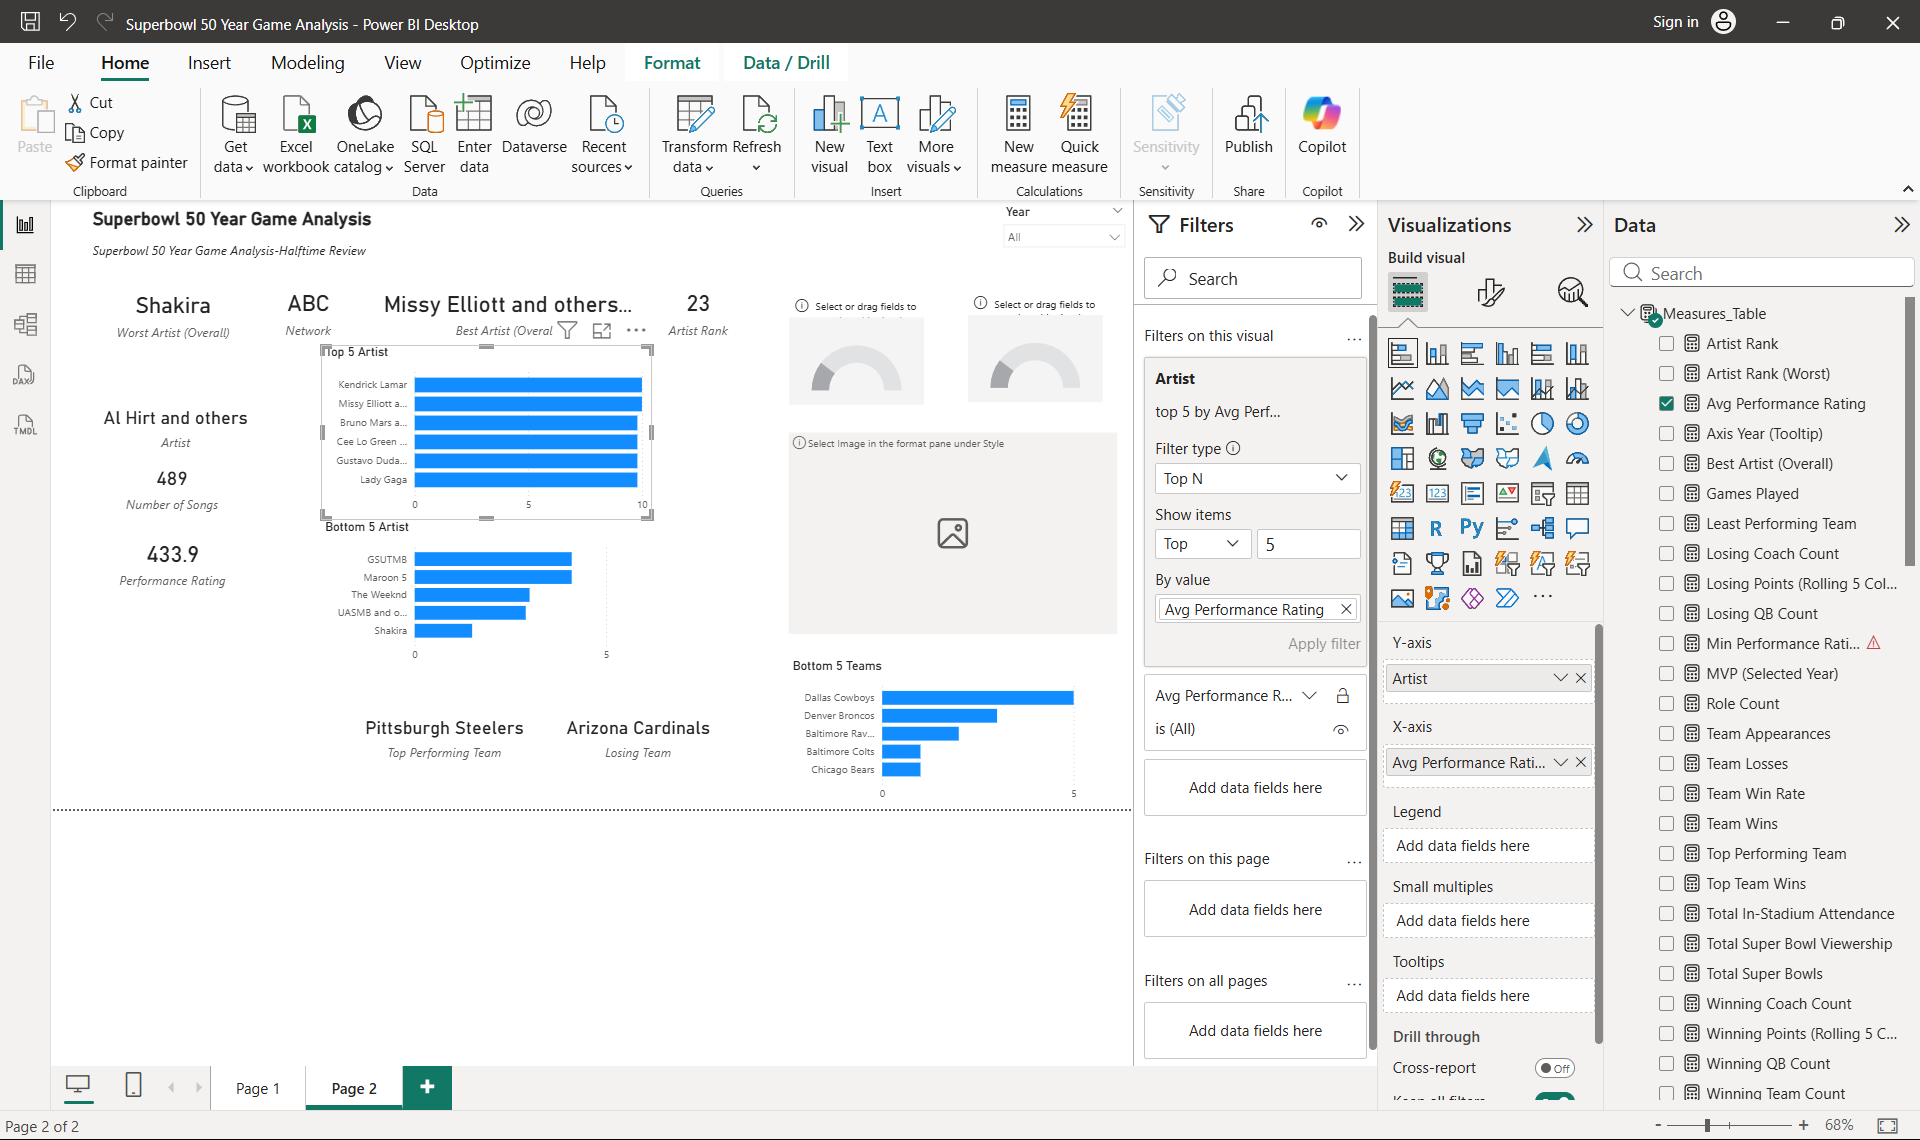

Layout of this report page (visuals, bound fields, positions):
{"tool":"powerbi","page":{"name":"Halftime Review","canvas":[1280,720],"ordinal":1},"visuals":[{"type":"image","box":[0,0,1280,721.2],"z":0},{"type":"textbox","box":[135.3,47.5,430.7,41.5],"z":1000},{"type":"shape","box":[34,272.9,196.8,421.7],"z":2000},{"type":"shape","box":[34,164,130,58.6],"z":3000},{"type":"slicer","fields":{"Values":["super_bowls_final.date.Variation.Date Hierarchy.Year"]},"box":[1165.4,19.9,103.1,36.3],"z":4000},{"type":"card","fields":{"Values":["Sum(super_bowls_final.combined_pts)"]},"box":[39.8,162.8,118.3,58.6],"z":5000},{"type":"shape","box":[178.1,163.3,126.6,57.4],"z":6000},{"type":"card","fields":{"Values":["Measures_Table.Worst Artist (Overall)"]},"box":[179.5,163.3,125.1,58.9],"z":7000},{"type":"shape","box":[317,163.8,104.2,58.6],"z":8000},{"type":"shape","box":[241.2,272.5,472.5,202.5],"z":9000},{"type":"card","fields":{"Values":["Min(tv_final_fixed.network)"]},"box":[326.4,163.8,85.5,58.6],"z":10000},{"type":"shape","box":[433.8,162.5,381.2,58.8],"z":11000},{"type":"card","fields":{"Values":["Measures_Table.Best Artist (Overall)"]},"box":[438.8,162.5,253.8,57.5],"z":12000},{"type":"card","fields":{"Values":["Sum(super_bowls_final.super_bowl)"]},"box":[692.5,162.5,122.5,58.8],"z":13000},{"type":"textbox","box":[137.5,76.4,491.4,42.3],"z":14000},{"type":"card","fields":{"Values":["Measures_Table.Top Performing Team"]},"box":[43.8,283.8,177.5,96.2],"z":15000},{"type":"card","fields":{"Values":["Min(halftime_musician_final.artist)"]},"box":[43.8,442.5,177.5,81.2],"z":16000},{"type":"card","fields":{"Values":["Sum(halftime_musician_final.num_songs)"]},"box":[43.8,515,177.5,78.8],"z":17000},{"type":"card","fields":{"Values":["Min(super_bowls_final.team_loser)"]},"box":[43.8,362.5,177.5,81.2],"z":18000},{"type":"shape","box":[241.2,495,472.5,201.2],"z":19000},{"type":"shape","box":[728.8,273.8,540,422.5],"z":20000},{"type":"shape","box":[886.4,71.7,382.1,150.5],"z":21000},{"type":"textbox","box":[1165,0,103.5,37.6],"z":22000},{"type":"areaChart","title":"Winner Points vs Loser Points","fields":{"Category":["superbowl_final_dates_fixed.Date.Variation.Date Hierarchy.Year","superbowl_final_dates_fixed.Date.Variation.Date Hierarchy.Month"],"Y":["Sum(superbowl_final_dates_fixed.Winner Pts)","Sum(superbowl_final_dates_fixed.Loser Pts)"]},"box":[895.8,79.9,365.6,134],"z":23000},{"type":"card","fields":{"Values":["Sum(halftime_musician_final.performance_rating)"]},"box":[43.8,587.5,177.5,96.2],"z":24000},{"type":"clusteredBarChart","title":"Bottom Rating by Artist","fields":{"Category":["Bottom 5 Artists.artist"],"Y":["Sum(Bottom 5 Artists.AvgRating)"]},"box":[250,503.8,452.5,180],"z":25000},{"type":"clusteredBarChart","title":"Top Rating by Artist","fields":{"Category":["Top 5 Artists.artist"],"Y":["Sum(Top 5 Artists.AvgRating)"]},"box":[250,283.8,452.5,182.5],"z":26000},{"type":"columnChart","title":"Top Ads by Product Type","fields":{"Y":["CountNonNull(superbowl_ads_final_clean.year)"],"Category":["superbowl_ads_final_clean.Product Type"]},"box":[743.8,285,507.5,190],"z":27000},{"type":"columnChart","title":"Bottom Ads by Product Type","fields":{"Y":["CountNonNull(superbowl_ads_final_clean.year)"],"Category":["superbowl_ads_final_clean.Product Type"]},"box":[743.8,485,507.5,198.8],"z":28000},{"type":"textbox","box":[962.5,495,288.8,83.8],"z":29000},{"type":"textbox","box":[972.5,285,288.8,83.8],"z":30000}]}

Visuals, with their boxes on the page's 1280x720 design canvas (x1, y1, x2, y2). These are canvas units, not pixel positions in the 1920x1140 screenshot, which may show the page scaled, cropped or inside an application window:
image: [0, 0, 1280, 721]
textbox: [135, 48, 566, 89]
shape: [34, 273, 231, 695]
shape: [34, 164, 164, 223]
slicer - super_bowls_final.date.Variation.Date Hierarchy.Year: [1165, 20, 1268, 56]
card - Sum(super_bowls_final.combined_pts): [40, 163, 158, 221]
shape: [178, 163, 305, 221]
card - Measures_Table.Worst Artist (Overall): [180, 163, 305, 222]
shape: [317, 164, 421, 222]
shape: [241, 272, 714, 475]
card - Min(tv_final_fixed.network): [326, 164, 412, 222]
shape: [434, 162, 815, 221]
card - Measures_Table.Best Artist (Overall): [439, 162, 693, 220]
card - Sum(super_bowls_final.super_bowl): [692, 162, 815, 221]
textbox: [138, 76, 629, 119]
card - Measures_Table.Top Performing Team: [44, 284, 221, 380]
card - Min(halftime_musician_final.artist): [44, 442, 221, 524]
card - Sum(halftime_musician_final.num_songs): [44, 515, 221, 594]
card - Min(super_bowls_final.team_loser): [44, 362, 221, 444]
shape: [241, 495, 714, 696]
shape: [729, 274, 1269, 696]
shape: [886, 72, 1268, 222]
textbox: [1165, 0, 1268, 38]
"Winner Points vs Loser Points" areaChart: [896, 80, 1261, 214]
card - Sum(halftime_musician_final.performance_rating): [44, 588, 221, 684]
"Bottom Rating by Artist" clusteredBarChart: [250, 504, 702, 684]
"Top Rating by Artist" clusteredBarChart: [250, 284, 702, 466]
"Top Ads by Product Type" columnChart: [744, 285, 1251, 475]
"Bottom Ads by Product Type" columnChart: [744, 485, 1251, 684]
textbox: [962, 495, 1251, 579]
textbox: [972, 285, 1261, 369]
